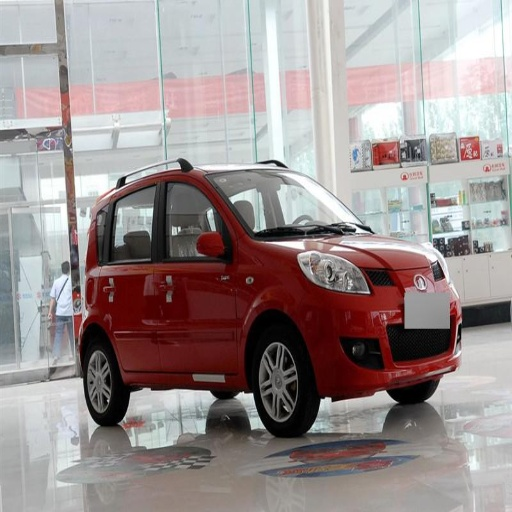front_bumper: (302, 265, 460, 395)
front_right_door: (156, 173, 236, 365)
front_right_light: (298, 253, 370, 294)
